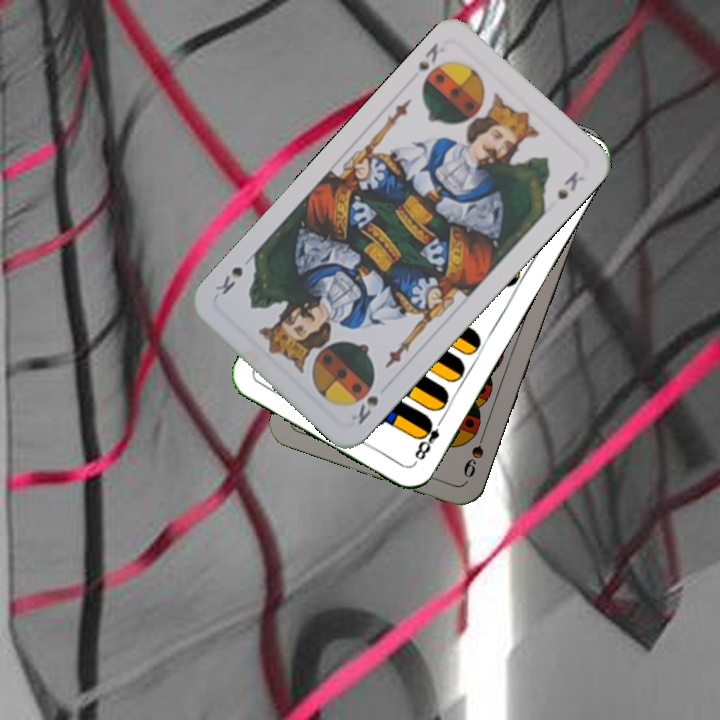E8: (410, 412, 447, 463)
S9: (459, 425, 489, 481)
SK: (404, 39, 448, 86), (353, 392, 381, 428)
